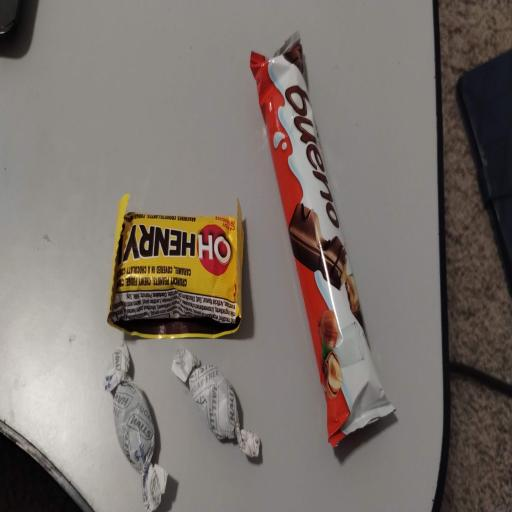chocolate: (251, 33, 394, 445), (108, 195, 243, 337), (105, 344, 167, 511), (172, 350, 260, 457)
